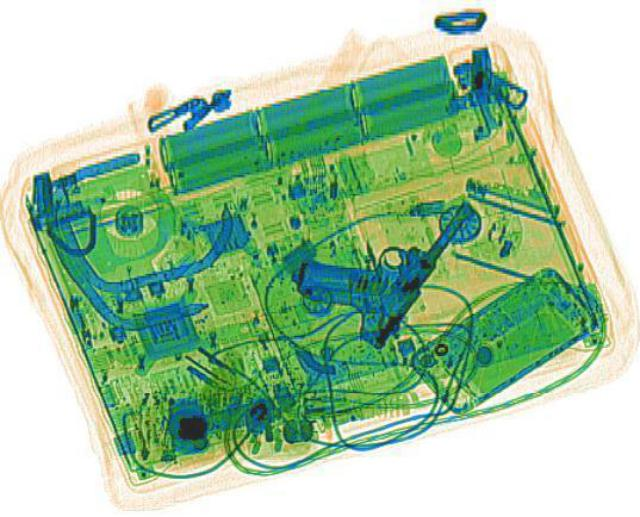Gun: (276, 163, 480, 344)
